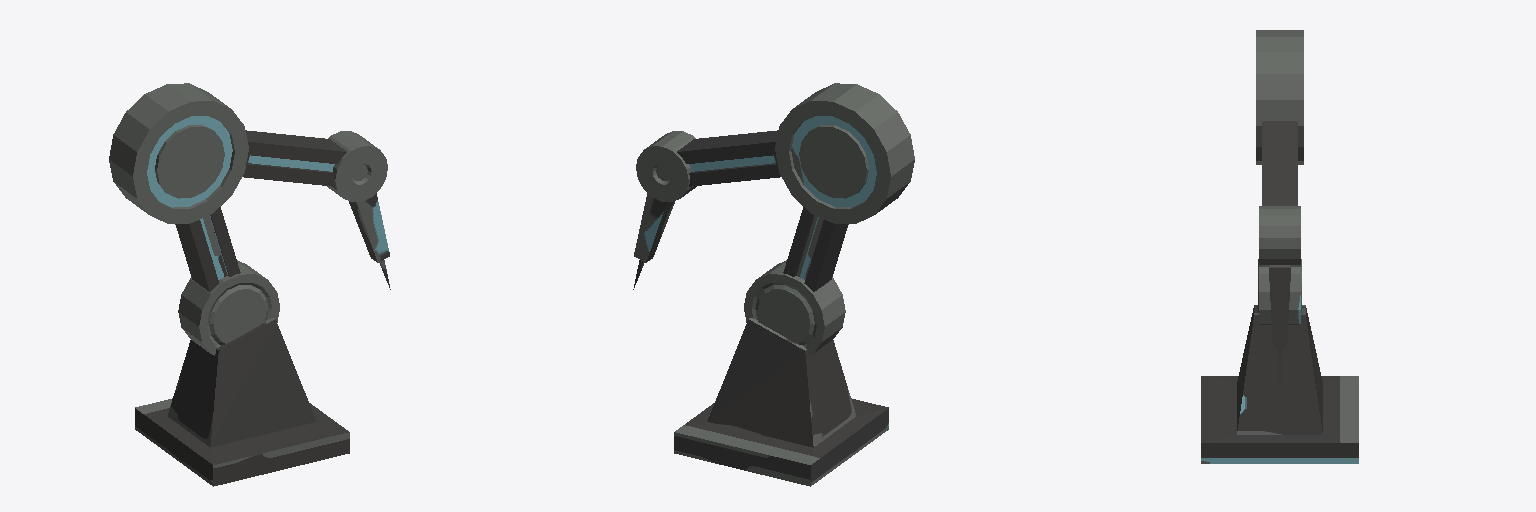
3 renders of one model, left to right at view 1: azimuth 30°, elevation 25°; view 2: azimuth 150°, elevation 25°; view 3: azimuth 270°, elevation 25°, orthographic.
Parts seen in each view (by area): view 1: Cube, Cylinder.001, Cylinder, Cube.002, Cube.001, Cylinder.002, Cube.003; view 2: Cube, Cylinder.001, Cylinder, Cube.002, Cube.001, Cylinder.002, Cube.003; view 3: Cube, Cylinder.001, Cube.002, Cylinder.002, Cube.003, Cylinder.
Boxes of the visible parts, box(x1,y1,x2,y2) form: Cube: box(135, 318, 349, 486); Cylinder.001: box(109, 83, 248, 223); Cylinder: box(178, 260, 279, 355); Cube.002: box(243, 130, 346, 186); Cube.001: box(175, 207, 240, 291); Cylinder.002: box(327, 131, 387, 201); Cube.003: box(349, 193, 390, 289); Cube: box(674, 318, 888, 486); Cylinder.001: box(775, 83, 914, 223); Cylinder: box(744, 260, 845, 355); Cube.002: box(677, 130, 780, 186); Cube.001: box(783, 207, 848, 291); Cylinder.002: box(636, 131, 696, 201); Cube.003: box(633, 193, 674, 289); Cube: box(1201, 305, 1358, 463); Cylinder.001: box(1256, 30, 1303, 164); Cube.002: box(1262, 121, 1297, 205); Cylinder.002: box(1259, 206, 1300, 266); Cube.003: box(1269, 265, 1290, 381); Cylinder: box(1258, 259, 1301, 324).
Bounding box in the file's own units: 3.96 × 5.1 × 2.
3 materials, 1 textured.